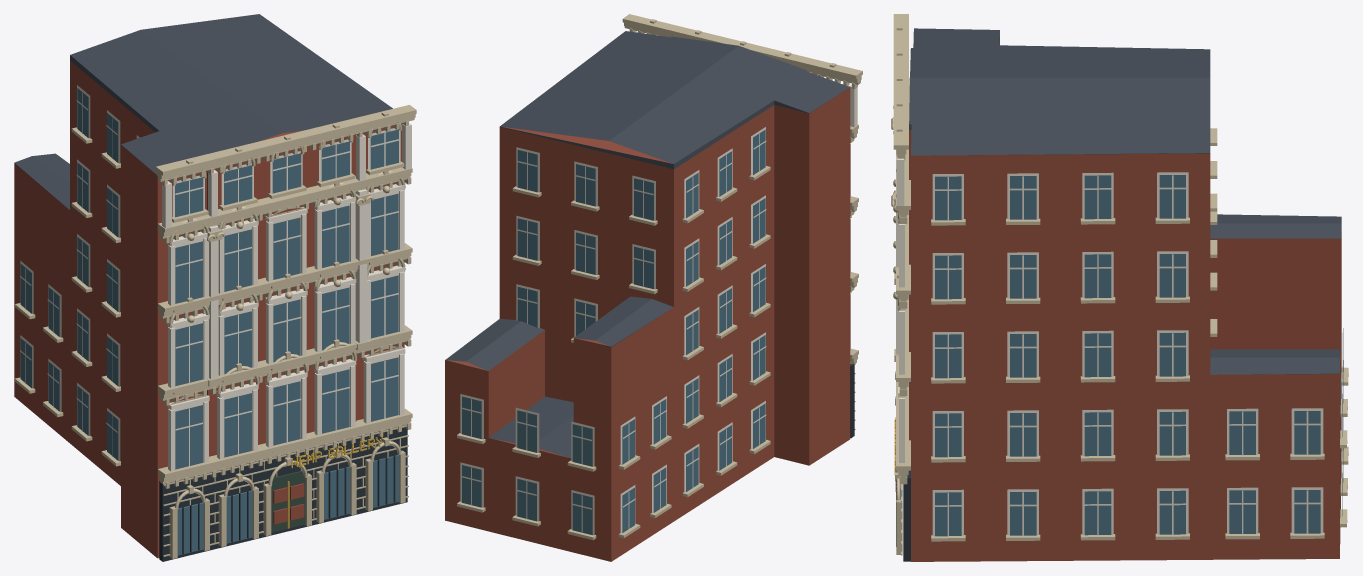
Rendered from hemp-gallery.glb.
3 renders of one model, left to right at view 1: azimuth 30°, elevation 25°; view 2: azimuth 150°, elevation 25°; view 3: azimuth 270°, elevation 25°, orthographic. The views are drawn at different scales.
Visible parts, largest first — view 1: hemp-gallery; view 2: hemp-gallery; view 3: hemp-gallery.
Part boxes in pixels (box(x1,y1,x2,y2)): hemp-gallery: box(14, 14, 416, 561); hemp-gallery: box(445, 14, 862, 561); hemp-gallery: box(891, 14, 1348, 561).
Bounding box in the file's own units: 12.92 × 19.18 × 18.89.
